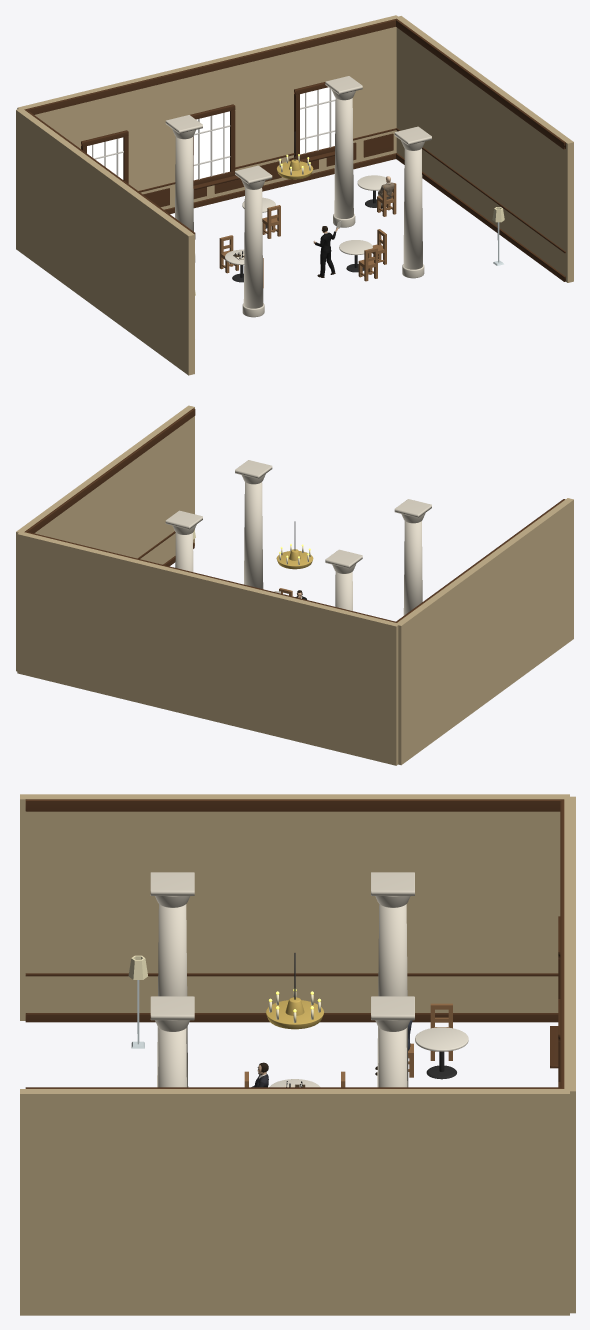
The model's file is cafe-central.glb.
The picture shows the model from 3 angles, top to bottom: view 1: azimuth 30°, elevation 25°; view 2: azimuth 150°, elevation 25°; view 3: azimuth 270°, elevation 25°; orthographic projection. The views are drawn at different scales.
Parts seen in each view (by area): view 1: wall_left, wall_back, wall_right, box.006, cyl.007, cyl.010, cyl.004, pane.001, pane.002, cyl.001, box.008, box (+11 smaller); view 2: wall_back, wall_left, wall_right, cyl.010, cyl.007, box.008, box.006, cyl.004, cyl.001, box.046, box.047, box.048 (+2 smaller); view 3: wall_right, wall_left, box.007, wall_back, box.001, cyl.007, cyl.001, box.004, cyl.010, cyl.004, box.006, box.049 (+7 smaller).
Part boxes in pixels (left/top/right/bottom): wall_left: left=16, top=109, right=194, bottom=375; wall_back: left=17, top=15, right=399, bottom=209; wall_right: left=396, top=16, right=573, bottom=282; box.006: left=25, top=19, right=395, bottom=114; cyl.007: left=243, top=188, right=263, bottom=308; cyl.010: left=403, top=148, right=422, bottom=269; cyl.004: left=334, top=98, right=353, bottom=218; pane.001: left=193, top=111, right=229, bottom=180; pane.002: left=300, top=87, right=335, bottom=154; cyl.001: left=175, top=137, right=193, bottom=231; box.008: left=396, top=19, right=565, bottom=149; box: left=164, top=153, right=396, bottom=213; wall_back: left=17, top=531, right=399, bottom=765; wall_left: left=395, top=498, right=573, bottom=765; wall_right: left=16, top=405, right=194, bottom=671; cyl.010: left=244, top=482, right=263, bottom=588; cyl.007: left=403, top=521, right=422, bottom=615; box.008: left=25, top=408, right=195, bottom=533; box.006: left=24, top=532, right=396, bottom=622; cyl.004: left=175, top=533, right=193, bottom=571; cyl.001: left=335, top=572, right=352, bottom=610; box.046: left=325, top=549, right=362, bottom=568; box.047: left=165, top=510, right=202, bottom=529; box.048: left=394, top=499, right=431, bottom=517; wall_right: left=20, top=1089, right=569, bottom=1315; wall_left: left=20, top=794, right=569, bottom=1020; box.007: left=25, top=799, right=563, bottom=811; wall_back: left=564, top=796, right=575, bottom=1313; box.001: left=25, top=1013, right=558, bottom=1022; cyl.007: left=157, top=904, right=188, bottom=1087; cyl.001: left=377, top=904, right=408, bottom=1087; box.004: left=25, top=973, right=558, bottom=976; cyl.010: left=158, top=1028, right=186, bottom=1087; cyl.004: left=378, top=1028, right=407, bottom=1087; box.006: left=560, top=799, right=564, bottom=1088; box.049: left=150, top=996, right=194, bottom=1020.
Size of what is drawn, in the model's own units: 14.48 by 5.05 by 11.48.
Materials: 36 (1 with a texture image).
